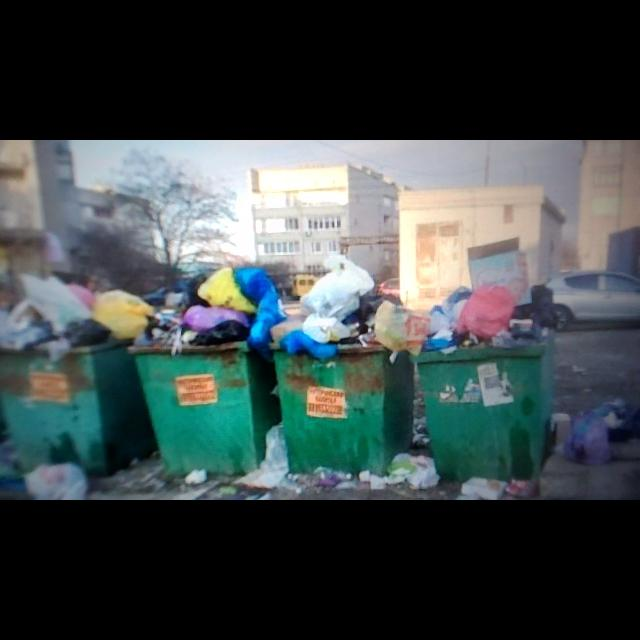Trash_Can_Full: (268, 253, 413, 477), (0, 274, 158, 476), (127, 266, 269, 474), (414, 284, 557, 481)
